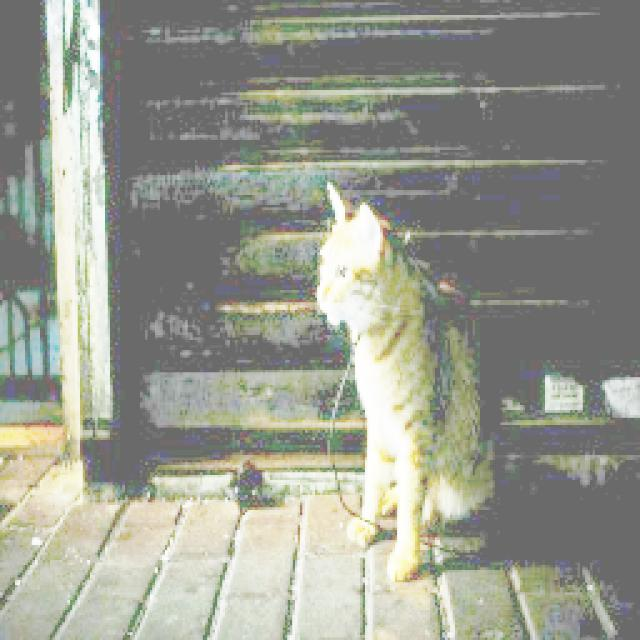cat: (280, 184, 518, 590)
